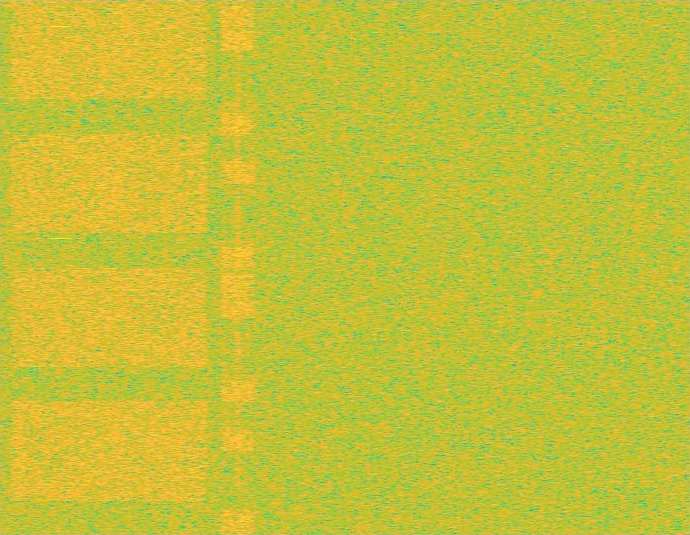5G: (6, 0, 213, 534)
DSSS: (235, 0, 240, 534)
LTE: (221, 0, 255, 534)
Radar: (54, 0, 68, 534)
